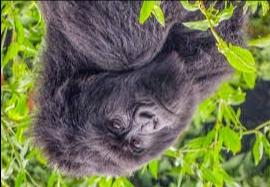goriile_montagne: (23, 0, 246, 187)
